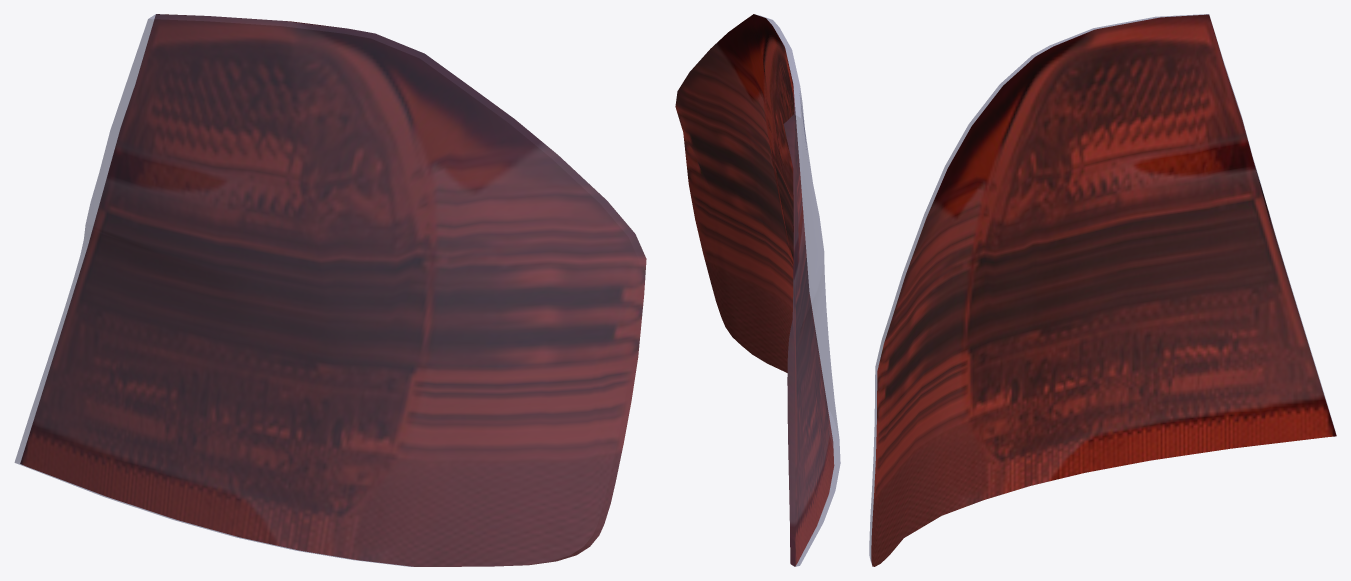
The picture shows the model from 3 angles, left to right: view 1: azimuth 30°, elevation 25°; view 2: azimuth 150°, elevation 25°; view 3: azimuth 270°, elevation 25°; orthographic projection. The views are drawn at different scales.
Visible parts, largest first — view 1: X4131_541C_R_X4131_541C_R_2_DTaSI, X4131_541C_R_1_N_X4131_541C_R; view 2: X4131_541C_R_1_N_X4131_541C_R, X4131_541C_R_X4131_541C_R_2_DTaSI; view 3: X4131_541C_R_1_N_X4131_541C_R, X4131_541C_R_X4131_541C_R_2_DTaSI.
Part boxes in pixels (x1,y1,x2,y2): X4131_541C_R_X4131_541C_R_2_DTaSI: (14, 14, 646, 566); X4131_541C_R_1_N_X4131_541C_R: (20, 14, 646, 566); X4131_541C_R_1_N_X4131_541C_R: (675, 14, 834, 566); X4131_541C_R_X4131_541C_R_2_DTaSI: (756, 14, 840, 566); X4131_541C_R_1_N_X4131_541C_R: (871, 14, 1336, 566); X4131_541C_R_X4131_541C_R_2_DTaSI: (869, 14, 1335, 563).
Bounding box in the file's own units: 20.97 × 25.7 × 23.1.
